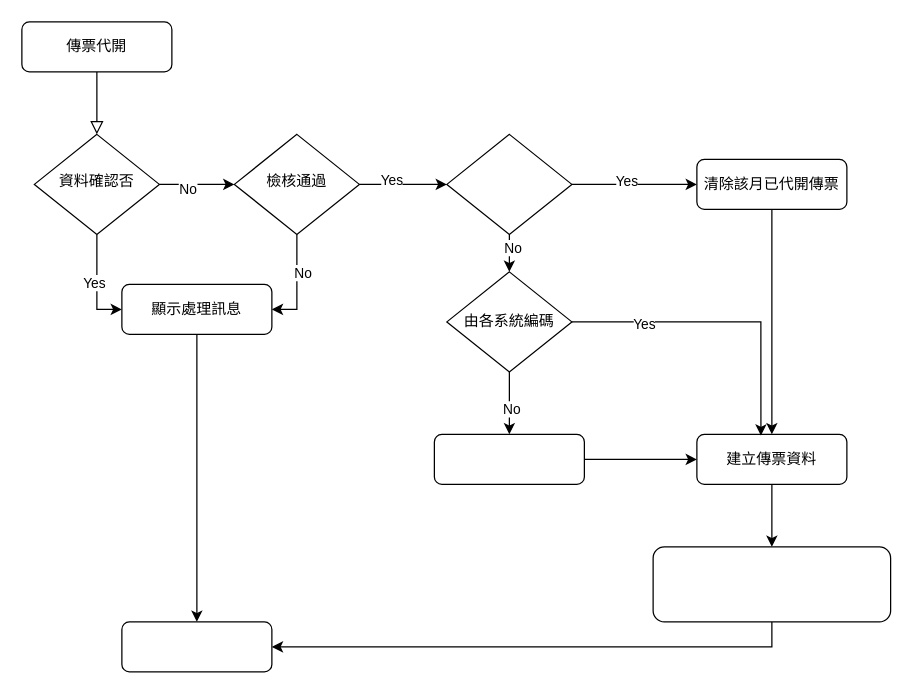
Image size: 913x694. Some labels were removed from this diagram. The box of each missing label's shape, as (x1, y1, x2, y2) in pixels:
取得編碼序號: (433, 433, 584, 484)
屬於每月代開: (446, 133, 572, 234)
由各系統編碼：回傳處理訊息 由總帳編碼：回傳編碼後詳細資料: (652, 546, 891, 622)
結束: (121, 621, 272, 672)
